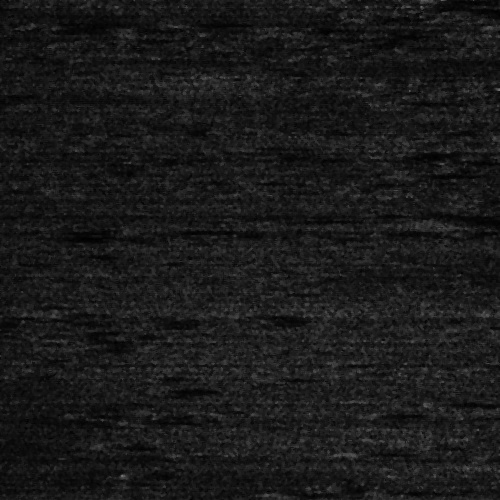object: (398, 214, 500, 227)
shadow: (450, 214, 500, 227)
